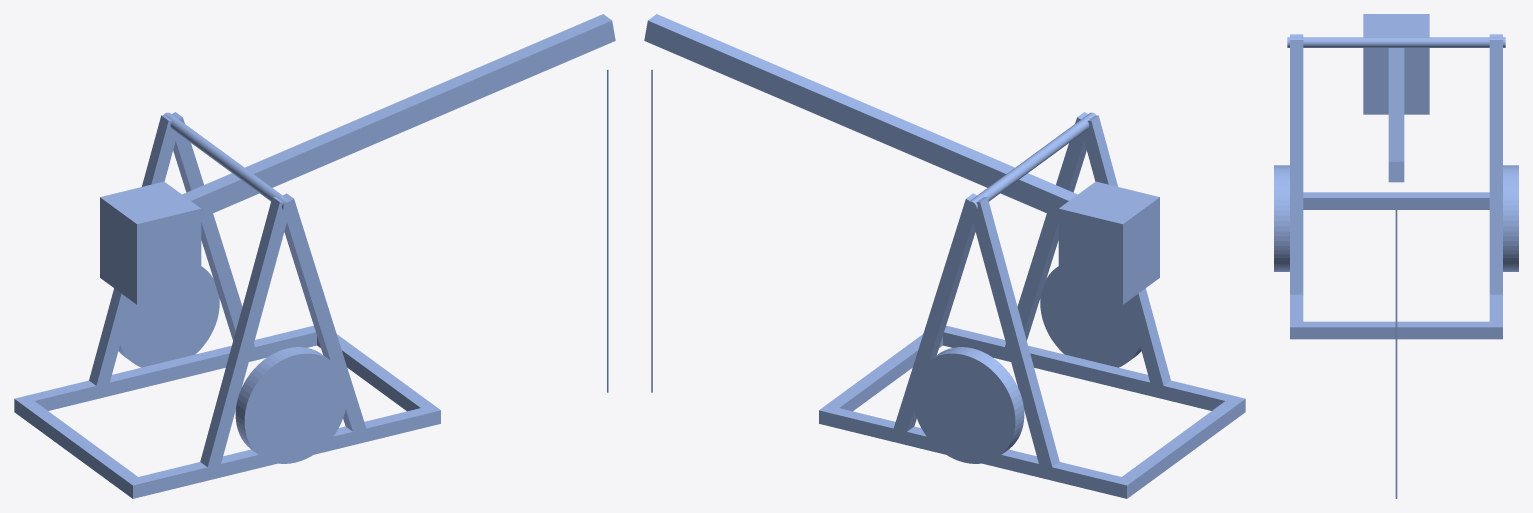
The model's file is trebuchet-7d3e3eab.glb.
3 views of the same model, side by side, from view 1: azimuth 30°, elevation 25°; view 2: azimuth 150°, elevation 25°; view 3: azimuth 270°, elevation 25° (orthographic). The views are drawn at different scales.
Visible parts, largest first — view 1: output; view 2: output; view 3: output.
Part boxes in pixels (bbox=[...]): output: bbox=[14, 14, 615, 498]; output: bbox=[644, 14, 1245, 498]; output: bbox=[1274, 14, 1518, 498].
Size of the model in its own units: 2.3 by 1.53 by 1.01.
